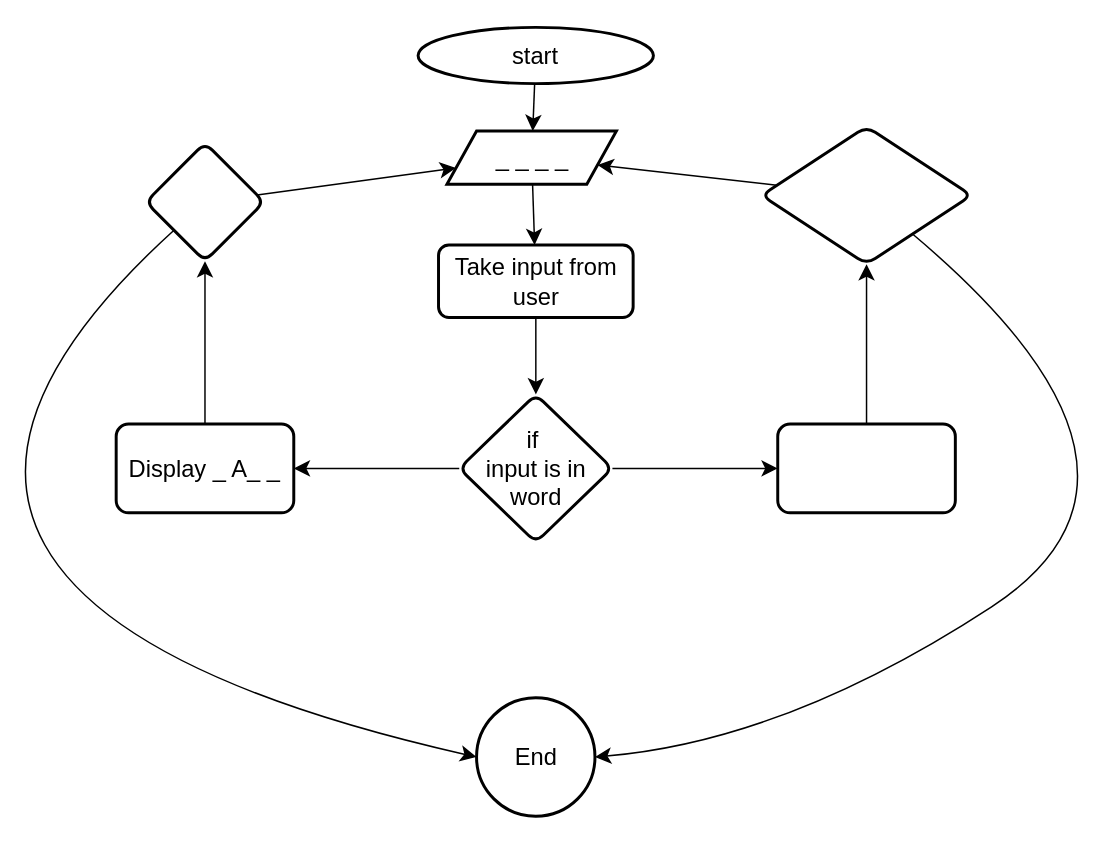
Image size: 1104x842. Some labels were removed from this diagram. The box of each missing label's shape, as (x1, y1, x2, y2) in pixels:
Display hangman: (776, 422, 956, 514)
if _ A _ _ == word: (144, 141, 265, 262)
if hangman is complete: (759, 124, 972, 265)
